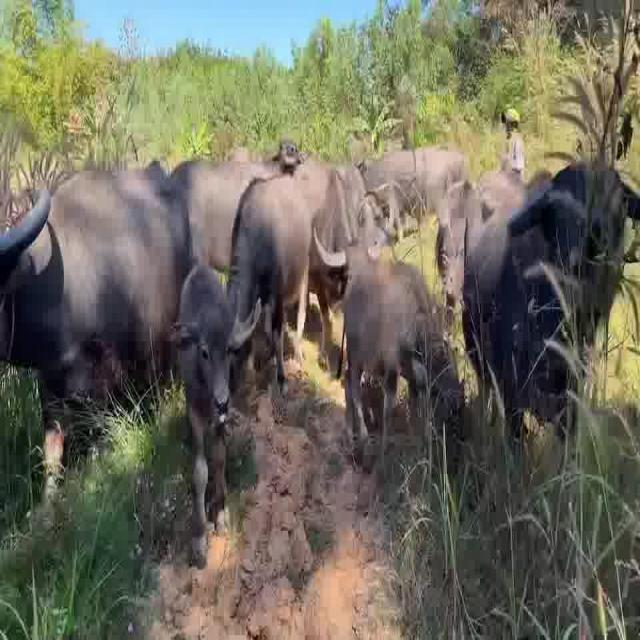buffalo: (0, 154, 238, 630), (457, 148, 634, 421), (208, 158, 324, 374), (334, 241, 432, 451), (364, 126, 486, 247)
